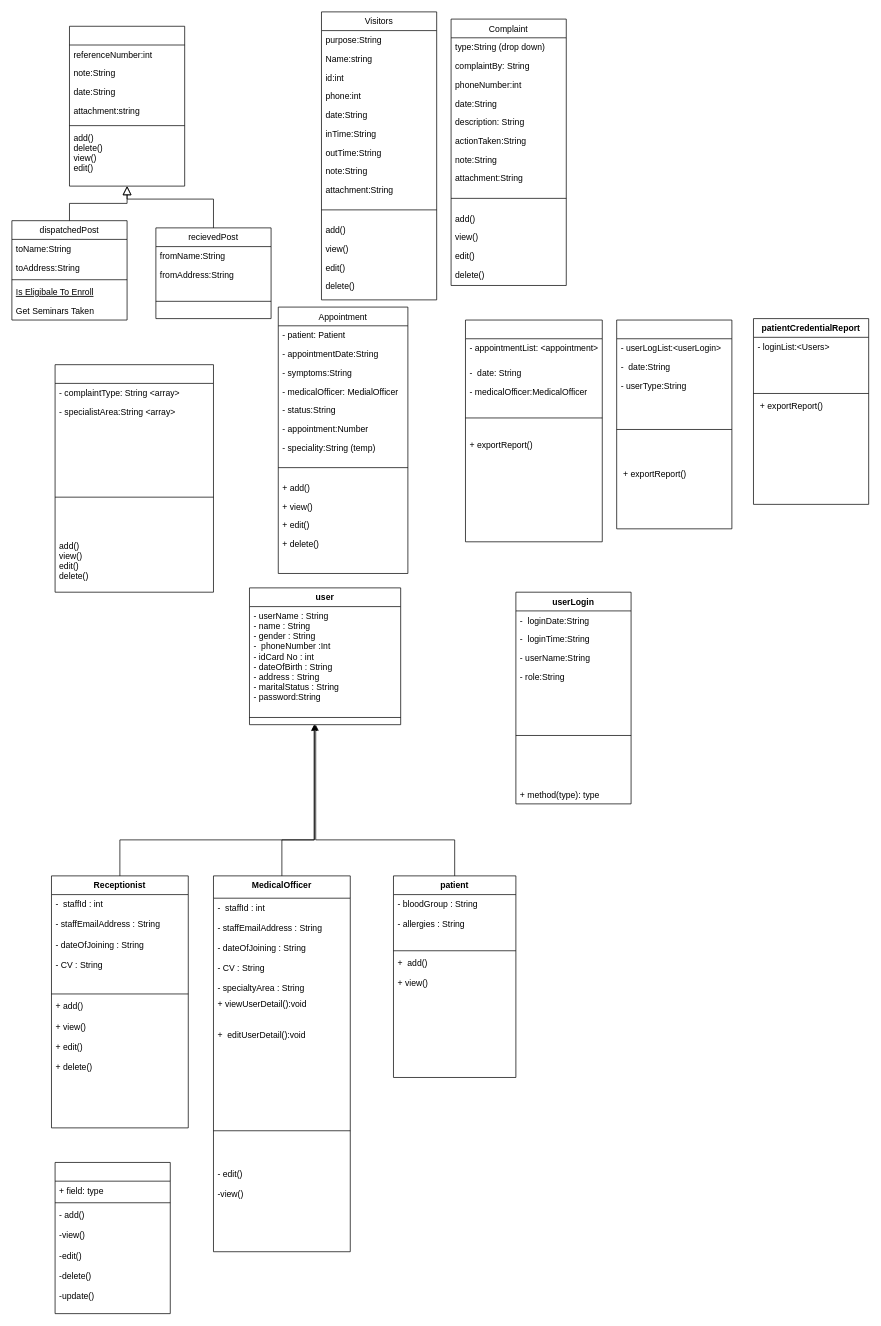
This 881x1326 diagram has some shape labels left out. Each missing label, with the box of its shape:
Admin: (54, 1162, 170, 1314)
AppointmentReport: (465, 319, 602, 542)
Postal (ABSTRACT): (69, 26, 185, 186)
Reference: (54, 364, 213, 592)
userLogReport: (616, 319, 732, 529)
